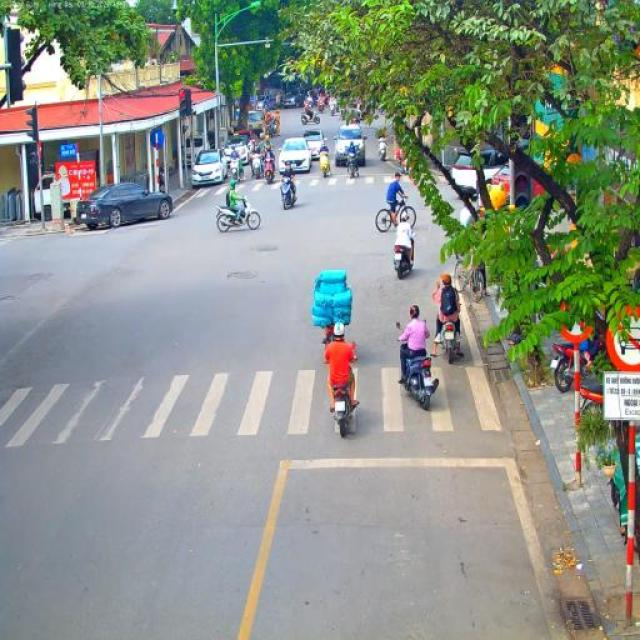bus: (491, 120, 620, 206)
car: (76, 182, 174, 228), (451, 148, 510, 198), (333, 122, 367, 167), (190, 148, 226, 187), (278, 136, 312, 176), (220, 134, 250, 166), (302, 129, 328, 161), (282, 88, 312, 109), (234, 128, 254, 152), (256, 95, 270, 114), (264, 95, 278, 111)
motorcycle: (396, 320, 440, 410), (550, 334, 604, 394), (328, 341, 358, 439), (215, 196, 261, 233), (439, 314, 462, 364), (393, 232, 416, 280), (580, 381, 604, 418), (280, 174, 298, 210), (228, 156, 244, 183), (320, 322, 336, 348), (345, 152, 360, 179), (262, 156, 276, 184), (376, 136, 389, 162), (319, 150, 331, 178), (251, 151, 263, 178), (300, 109, 320, 125), (268, 121, 277, 138), (261, 118, 269, 137), (316, 99, 326, 113), (329, 100, 337, 116)
truck: (34, 170, 98, 220), (246, 110, 264, 140)
